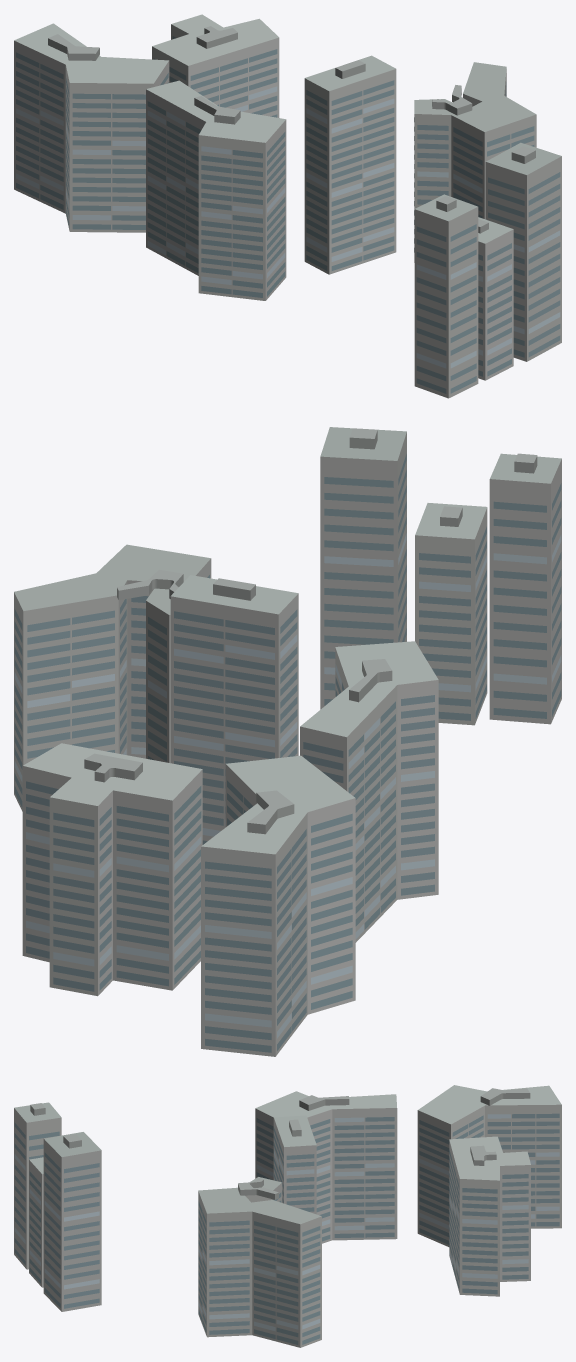
The model's file is apt-a10028080.glb.
The picture shows the model from 3 angles, top to bottom: view 1: azimuth 30°, elevation 25°; view 2: azimuth 150°, elevation 25°; view 3: azimuth 270°, elevation 25°; orthographic projection. The views are drawn at different scales.
Visible parts, largest first — view 1: apt-a10028080; view 2: apt-a10028080; view 3: apt-a10028080.
Part boxes in pixels (bbox=[...]): apt-a10028080: bbox=[14, 14, 561, 398]; apt-a10028080: bbox=[14, 427, 561, 1056]; apt-a10028080: bbox=[14, 1085, 561, 1347].
Size of the model in its own units: 113 by 61 by 188.
